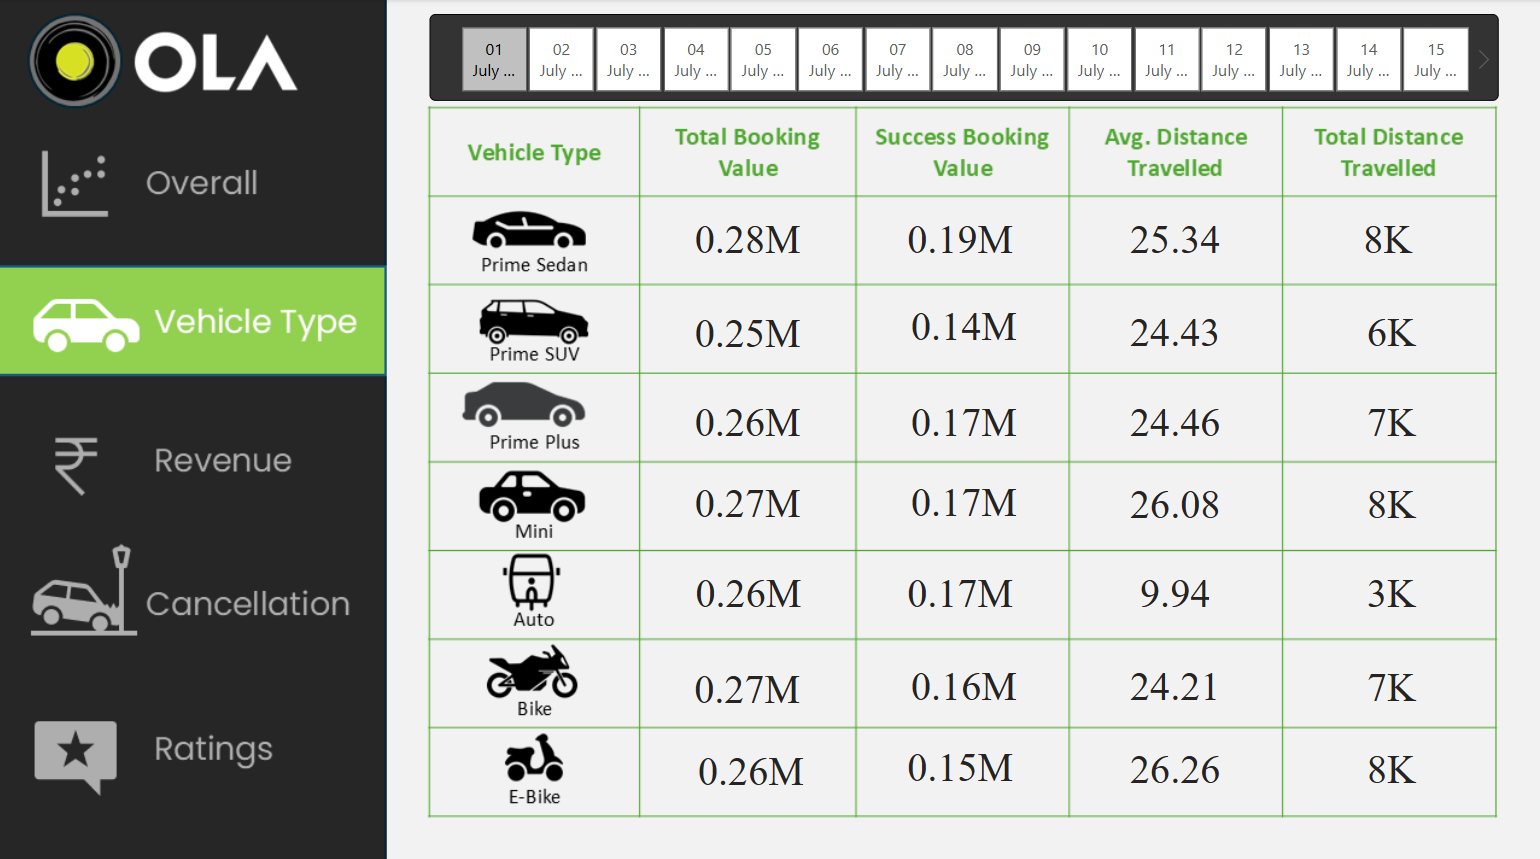

This screenshot's page, from the dashboard's own definition file:
{"tool":"powerbi","page":{"name":"Vehicle Type","canvas":[1280,720],"ordinal":1},"visuals":[{"type":"actionButton","box":[0,338,323.3,90.7],"z":0},{"type":"actionButton","box":[0,445.7,323.3,90.7],"z":1000},{"type":"actionButton","box":[0,579.6,323.3,90.7],"z":2000},{"type":"actionButton","box":[0,106.6,323.3,90.7],"z":3000},{"type":"card","fields":{"Values":["Sum(July.Booking_Value)"]},"box":[710.8,164.7,175.6,67.2],"z":4000},{"type":"card","fields":{"Values":["Sum(July.Booking_Value)"]},"box":[535.2,164.7,175.6,67.2],"z":5000},{"type":"card","fields":{"Values":["Sum(July.Booking_Value)"]},"box":[535.2,248.4,175.6,54.9],"z":6000},{"type":"card","fields":{"Values":["Sum(July.Booking_Value)"]},"box":[535.2,315.6,175.6,67.2],"z":7000},{"type":"card","fields":{"Values":["Sum(July.Booking_Value)"]},"box":[535.2,382.8,175.6,68.6],"z":8000},{"type":"card","fields":{"Values":["Sum(July.Booking_Value)"]},"box":[535.2,456.9,177,68.6],"z":9000},{"type":"card","fields":{"Values":["Sum(July.Booking_Value)"]},"box":[533.8,536.5,177,68.6],"z":10000},{"type":"card","fields":{"Values":["Sum(July.Booking_Value)"]},"box":[536.5,605.1,177,68.6],"z":11000},{"type":"card","fields":{"Values":["Sum(July.Booking_Value)"]},"box":[713.6,236,175.6,67.2],"z":12000},{"type":"card","fields":{"Values":["Sum(July.Booking_Value)"]},"box":[713.6,315.6,175.6,67.2],"z":13000},{"type":"card","fields":{"Values":["Sum(July.Booking_Value)"]},"box":[713.6,382.8,175.6,67.2],"z":14000},{"type":"card","fields":{"Values":["Sum(July.Booking_Value)"]},"box":[710.8,458.3,175.6,67.2],"z":15000},{"type":"card","fields":{"Values":["Sum(July.Booking_Value)"]},"box":[713.6,535.2,175.6,67.2],"z":16000},{"type":"card","fields":{"Values":["Sum(July.Booking_Value)"]},"box":[710.8,602.4,175.6,67.2],"z":17000},{"type":"card","fields":{"Values":["Avg(July.Ride_Distance)"]},"box":[889.2,164.7,175.6,67.2],"z":18000},{"type":"card","fields":{"Values":["Sum(July.Ride_Distance)"]},"box":[1064.8,164.7,175.6,67.2],"z":19000},{"type":"card","fields":{"Values":["Avg(July.Ride_Distance)"]},"box":[889.2,241.5,175.6,67.2],"z":20000},{"type":"card","fields":{"Values":["Avg(July.Ride_Distance)"]},"box":[889.2,315.6,175.6,67.2],"z":21000},{"type":"card","fields":{"Values":["Avg(July.Ride_Distance)"]},"box":[889.2,384.2,175.6,67.2],"z":22000},{"type":"card","fields":{"Values":["Avg(July.Ride_Distance)"]},"box":[889.2,458.3,175.6,67.2],"z":23000},{"type":"card","fields":{"Values":["Avg(July.Ride_Distance)"]},"box":[889.2,535.2,175.6,67.2],"z":24000},{"type":"card","fields":{"Values":["Avg(July.Ride_Distance)"]},"box":[889.2,603.8,175.6,67.2],"z":25000},{"type":"card","fields":{"Values":["Sum(July.Ride_Distance)"]},"box":[1068.3,241.6,175.6,67.2],"z":26000},{"type":"card","fields":{"Values":["Sum(July.Ride_Distance)"]},"box":[1068.3,315.7,175.6,67.2],"z":27000},{"type":"card","fields":{"Values":["Sum(July.Ride_Distance)"]},"box":[1068.3,384.3,175.6,67.2],"z":28000},{"type":"card","fields":{"Values":["Sum(July.Ride_Distance)"]},"box":[1068.3,458.4,175.6,67.2],"z":29000},{"type":"card","fields":{"Values":["Sum(July.Ride_Distance)"]},"box":[1068.3,535.3,175.6,67.2],"z":30000},{"type":"card","fields":{"Values":["Sum(July.Ride_Distance)"]},"box":[1068.3,603.9,175.6,67.2],"z":31000},{"type":"slicer","title":"Date","fields":{"Values":["July.Date"]},"box":[358.1,12.8,886,72.1],"z":32000}]}

Visuals, with their boxes on the page's 1280x720 design canvas (x1, y1, x2, y2). These are canvas units, not pixel positions in the 1540x859 screenshot, which may show the page scaled, cropped or inside an application window:
actionButton: [left=0, top=338, right=323, bottom=429]
actionButton: [left=0, top=446, right=323, bottom=536]
actionButton: [left=0, top=580, right=323, bottom=670]
actionButton: [left=0, top=107, right=323, bottom=197]
card - Sum(July.Booking_Value): [left=711, top=165, right=886, bottom=232]
card - Sum(July.Booking_Value): [left=535, top=165, right=711, bottom=232]
card - Sum(July.Booking_Value): [left=535, top=248, right=711, bottom=303]
card - Sum(July.Booking_Value): [left=535, top=316, right=711, bottom=383]
card - Sum(July.Booking_Value): [left=535, top=383, right=711, bottom=451]
card - Sum(July.Booking_Value): [left=535, top=457, right=712, bottom=526]
card - Sum(July.Booking_Value): [left=534, top=536, right=711, bottom=605]
card - Sum(July.Booking_Value): [left=536, top=605, right=714, bottom=674]
card - Sum(July.Booking_Value): [left=714, top=236, right=889, bottom=303]
card - Sum(July.Booking_Value): [left=714, top=316, right=889, bottom=383]
card - Sum(July.Booking_Value): [left=714, top=383, right=889, bottom=450]
card - Sum(July.Booking_Value): [left=711, top=458, right=886, bottom=526]
card - Sum(July.Booking_Value): [left=714, top=535, right=889, bottom=602]
card - Sum(July.Booking_Value): [left=711, top=602, right=886, bottom=670]
card - Avg(July.Ride_Distance): [left=889, top=165, right=1065, bottom=232]
card - Sum(July.Ride_Distance): [left=1065, top=165, right=1240, bottom=232]
card - Avg(July.Ride_Distance): [left=889, top=242, right=1065, bottom=309]
card - Avg(July.Ride_Distance): [left=889, top=316, right=1065, bottom=383]
card - Avg(July.Ride_Distance): [left=889, top=384, right=1065, bottom=451]
card - Avg(July.Ride_Distance): [left=889, top=458, right=1065, bottom=526]
card - Avg(July.Ride_Distance): [left=889, top=535, right=1065, bottom=602]
card - Avg(July.Ride_Distance): [left=889, top=604, right=1065, bottom=671]
card - Sum(July.Ride_Distance): [left=1068, top=242, right=1244, bottom=309]
card - Sum(July.Ride_Distance): [left=1068, top=316, right=1244, bottom=383]
card - Sum(July.Ride_Distance): [left=1068, top=384, right=1244, bottom=452]
card - Sum(July.Ride_Distance): [left=1068, top=458, right=1244, bottom=526]
card - Sum(July.Ride_Distance): [left=1068, top=535, right=1244, bottom=602]
card - Sum(July.Ride_Distance): [left=1068, top=604, right=1244, bottom=671]
"Date" slicer: [left=358, top=13, right=1244, bottom=85]
